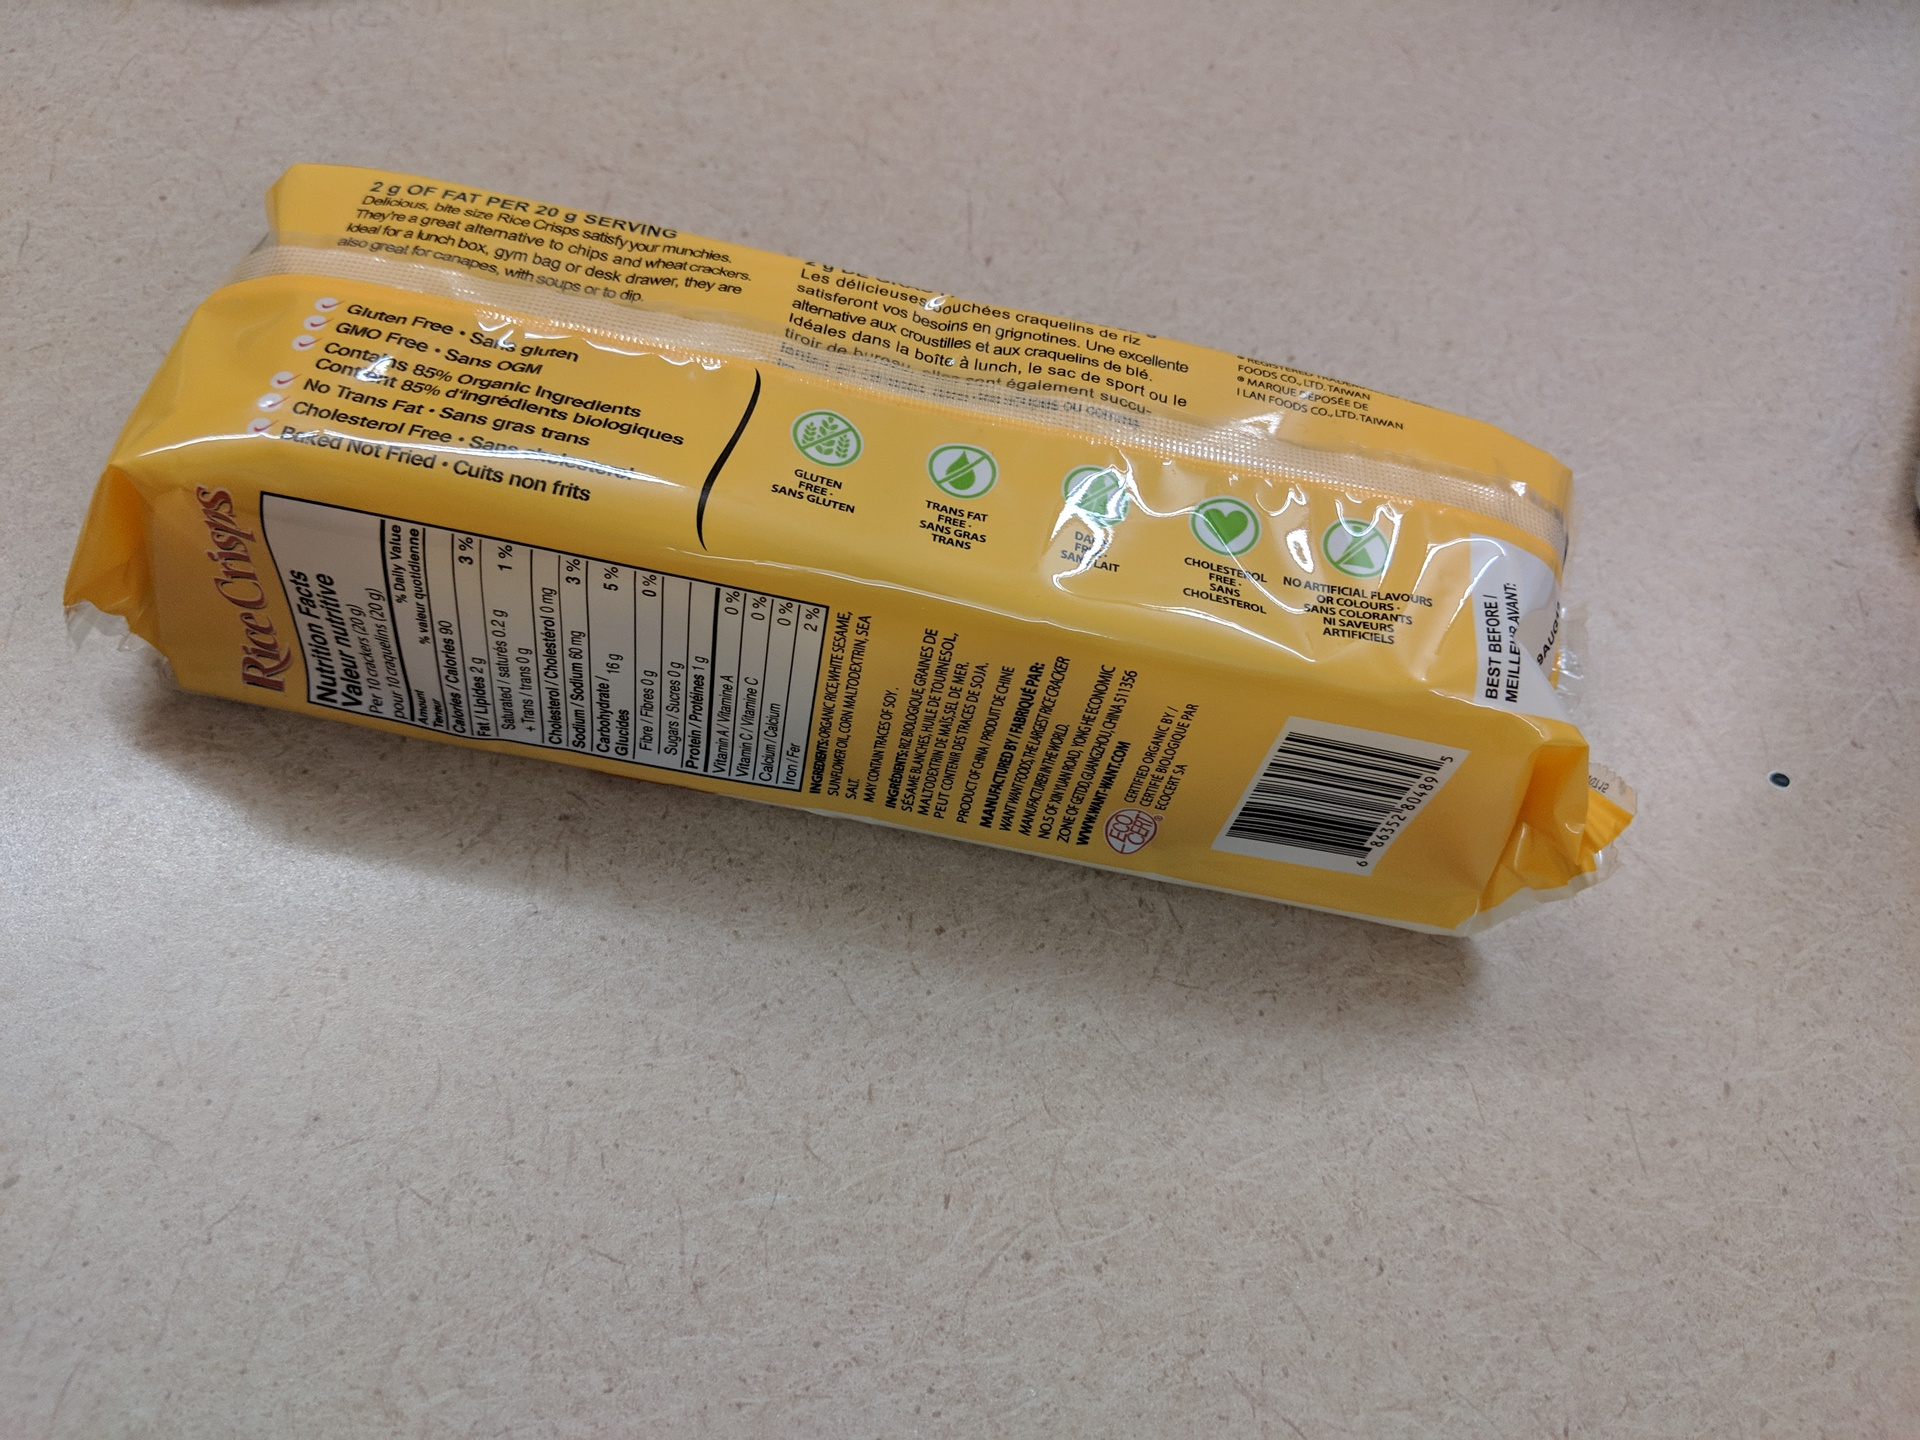hot_kid_rice_crisps_sesame: (275, 500, 1860, 1283)
